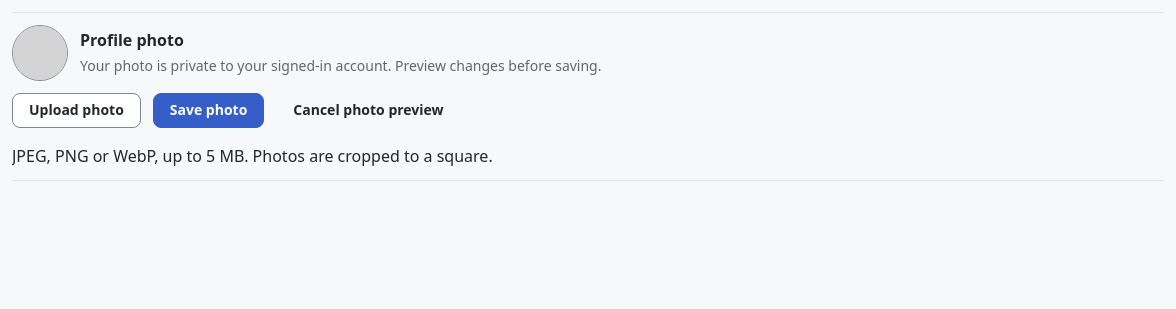
Test case: preserves the preview and saved identity on a version conflict
Earlier steps of the test are not shown.
Check: the button "Upload photo" is enabled, box [12,93,141,128]
Step 1. Click the button "Save photo" → [209, 110], box [153,93,264,128]
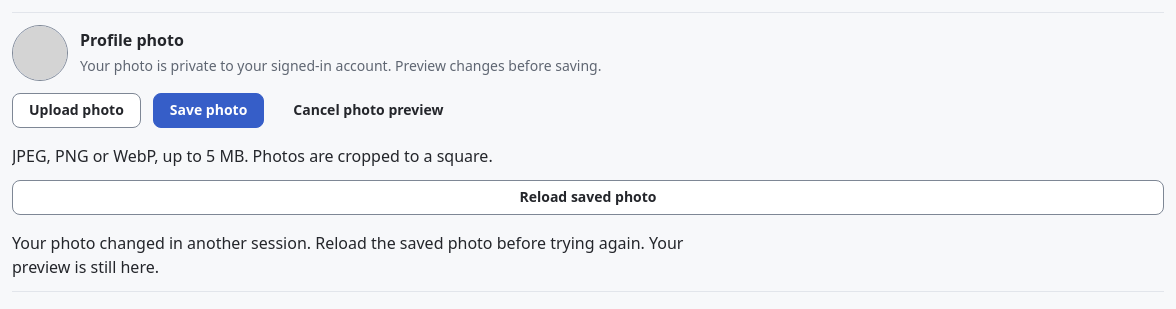
Check: the message is shown, box [12,231,684,279]
